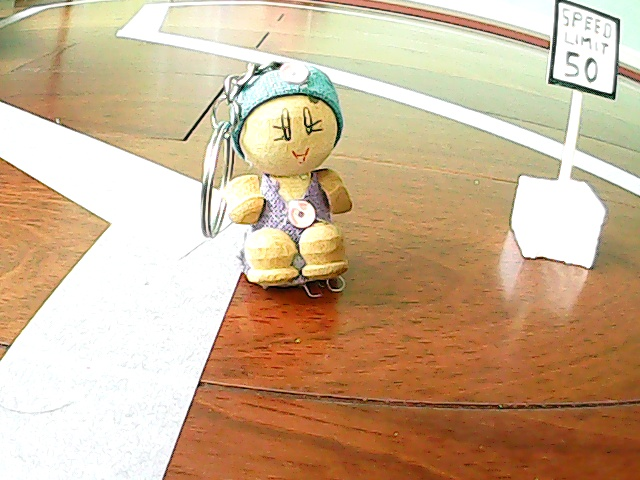pedestrain: (192, 51, 376, 313)
speed_50: (510, 10, 617, 283)
